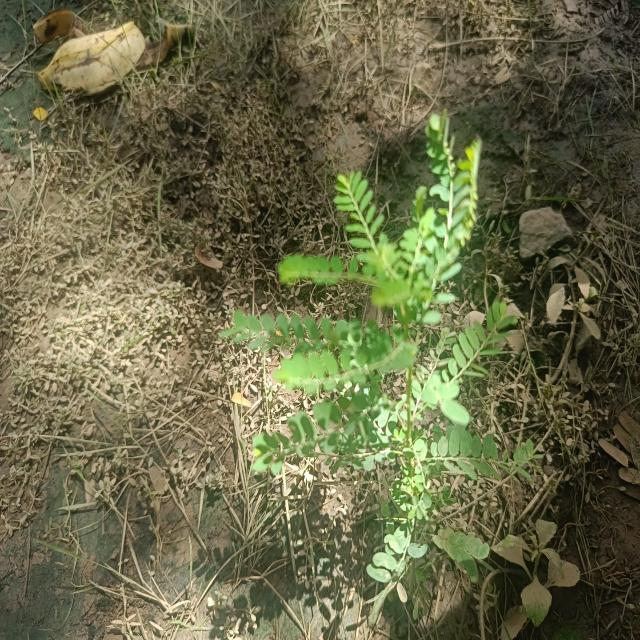weed: (216, 109, 539, 603)
